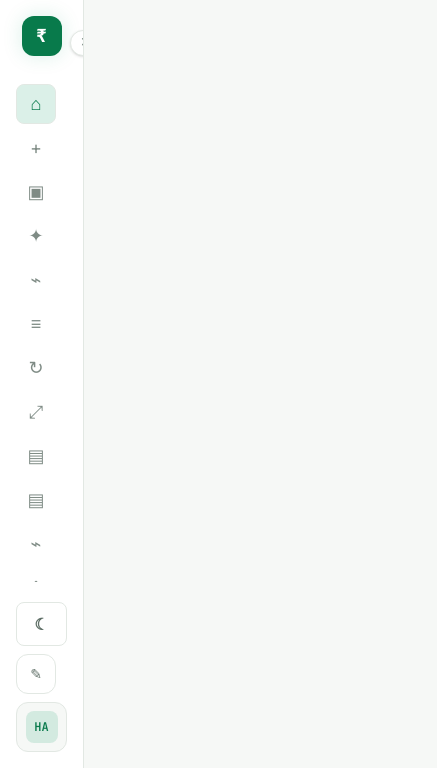
Test: AppSidebar › expands the sidebar before entering edit mode so rearrangement controls fit
The image size is (437, 768).
Click the button named "Edit sidebar": (36, 674) [16,654,56,694]
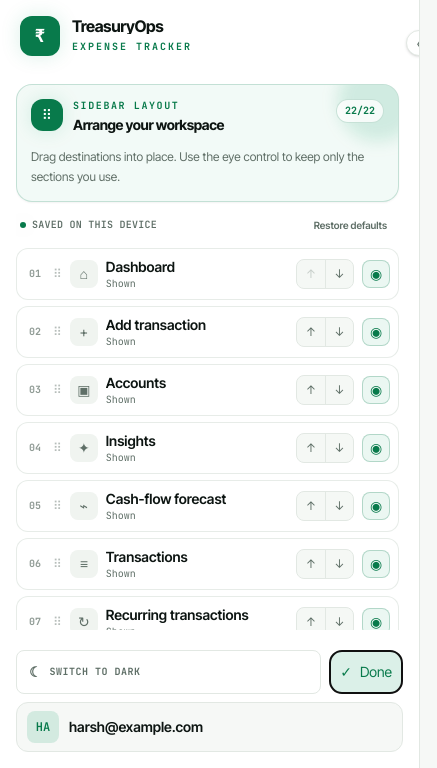
Now the text "Dashboard" is shown, box [106,258,175,275]
